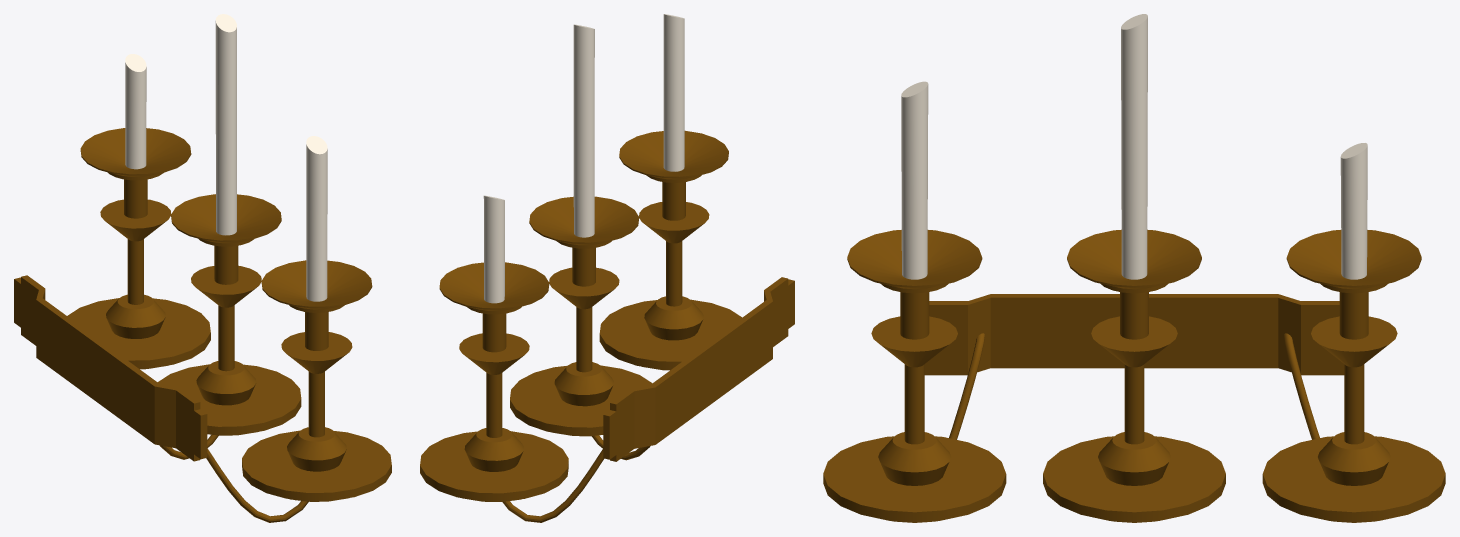
The model's file is SM_chandelier.fbx.
The picture shows the model from 3 angles, left to right: view 1: azimuth 30°, elevation 25°; view 2: azimuth 150°, elevation 25°; view 3: azimuth 270°, elevation 25°; orthographic projection. The views are drawn at different scales.
Parts seen in each view (by area): view 1: SM_chandelier; view 2: SM_chandelier; view 3: SM_chandelier.
Part boxes in pixels (left/top/right/bottom): SM_chandelier: left=14, top=14, right=391, bottom=522; SM_chandelier: left=420, top=14, right=794, bottom=522; SM_chandelier: left=823, top=14, right=1445, bottom=522.
Size of the model in its own units: 74.74 by 157 by 169.
